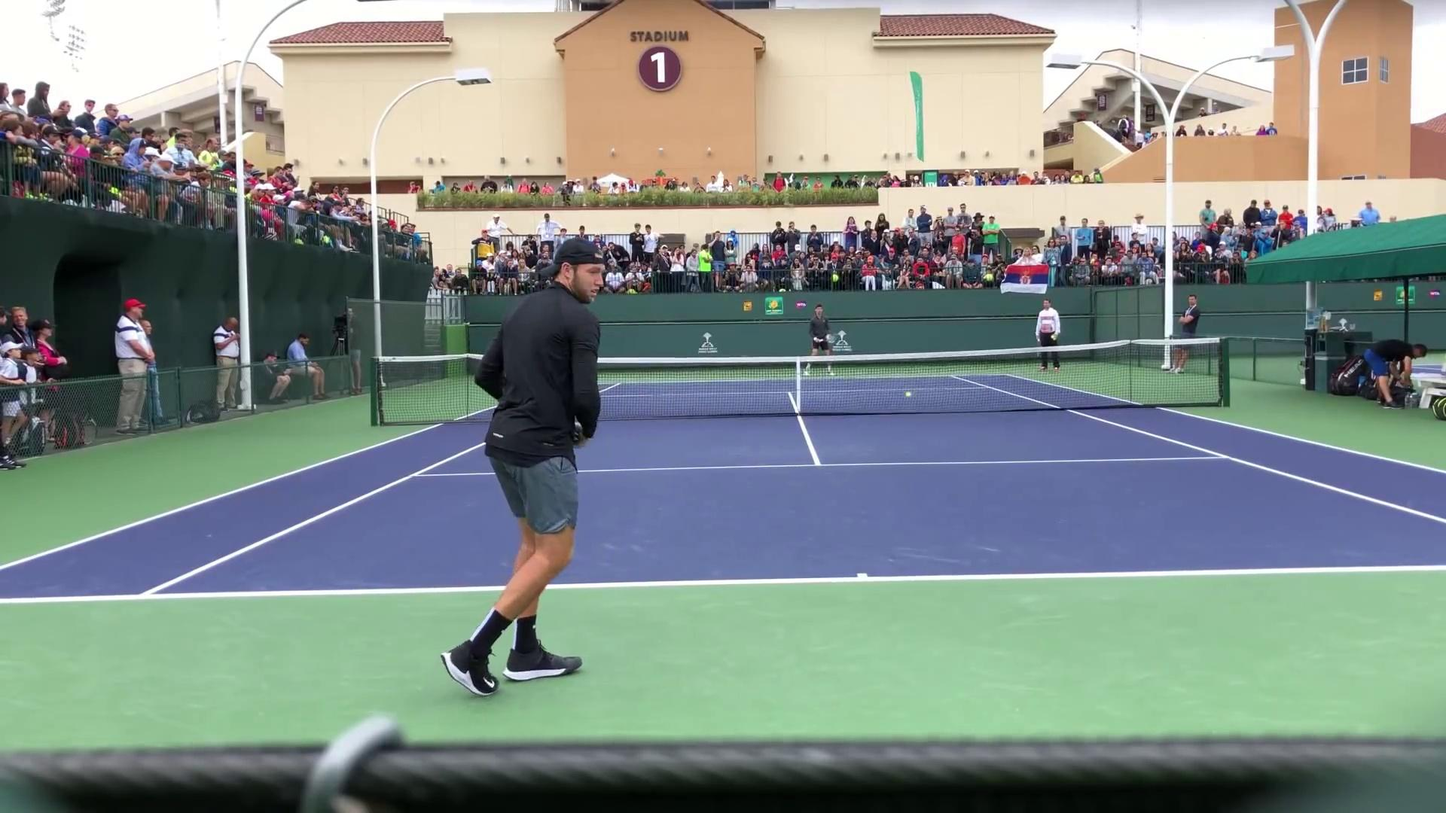ball: (905, 391, 912, 399)
